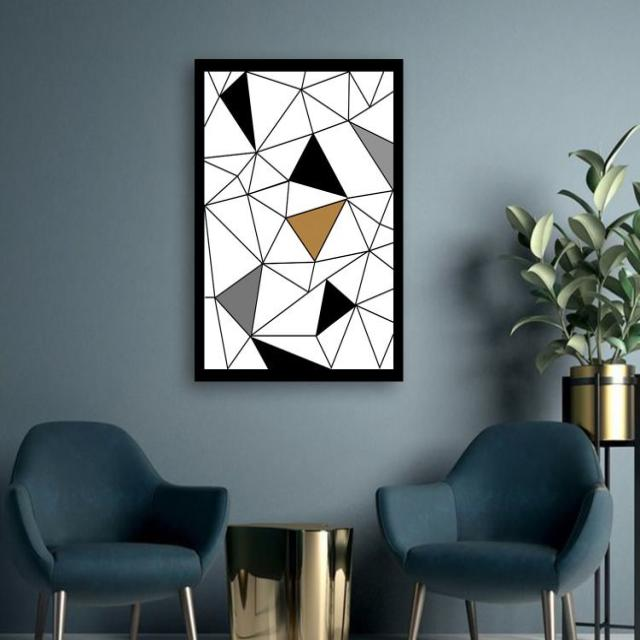painting: (192, 58, 405, 382)
